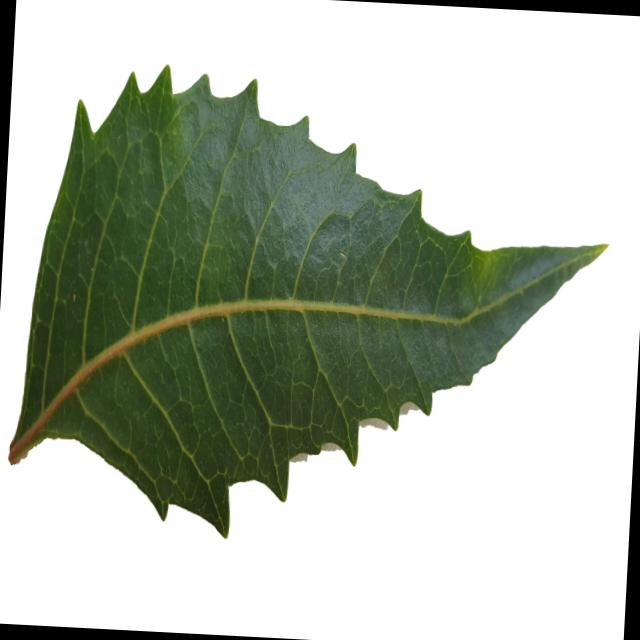Medicinal-Neem: (3, 52, 618, 554)
